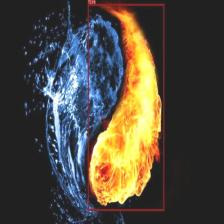fire: (88, 4, 164, 210)
